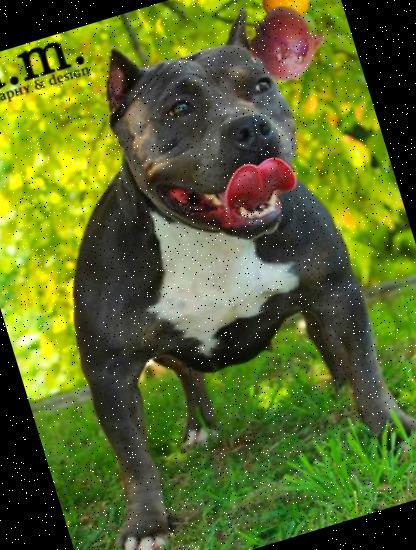Cantaloupe: (255, 0, 322, 31)
Onion: (241, 0, 337, 90)
